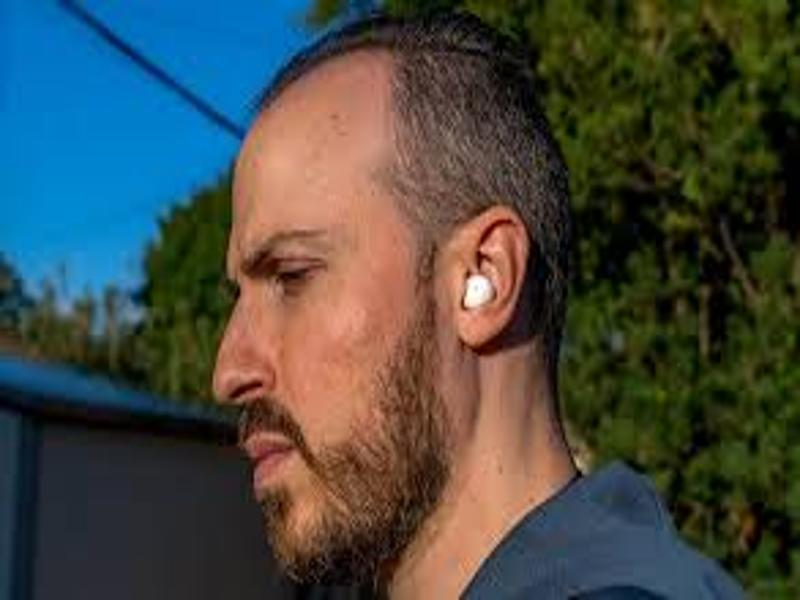headphone: (461, 273, 493, 311)
